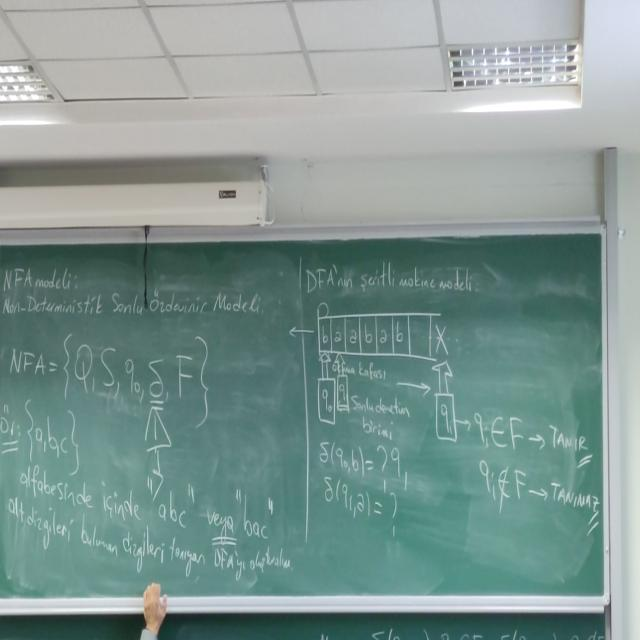image: (309, 302, 461, 443)
math: (6, 332, 213, 423), (316, 443, 410, 532), (465, 403, 532, 518)
text: (5, 464, 299, 582), (0, 255, 264, 338), (299, 248, 476, 308), (544, 413, 606, 527)
